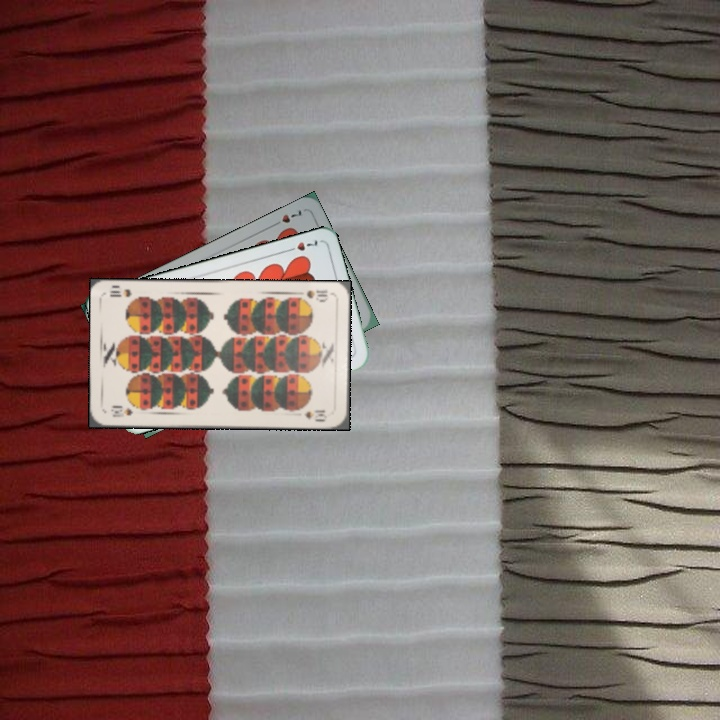H7: (268, 205, 306, 229), (282, 236, 320, 255)
S10: (293, 285, 330, 304), (107, 403, 135, 419)
